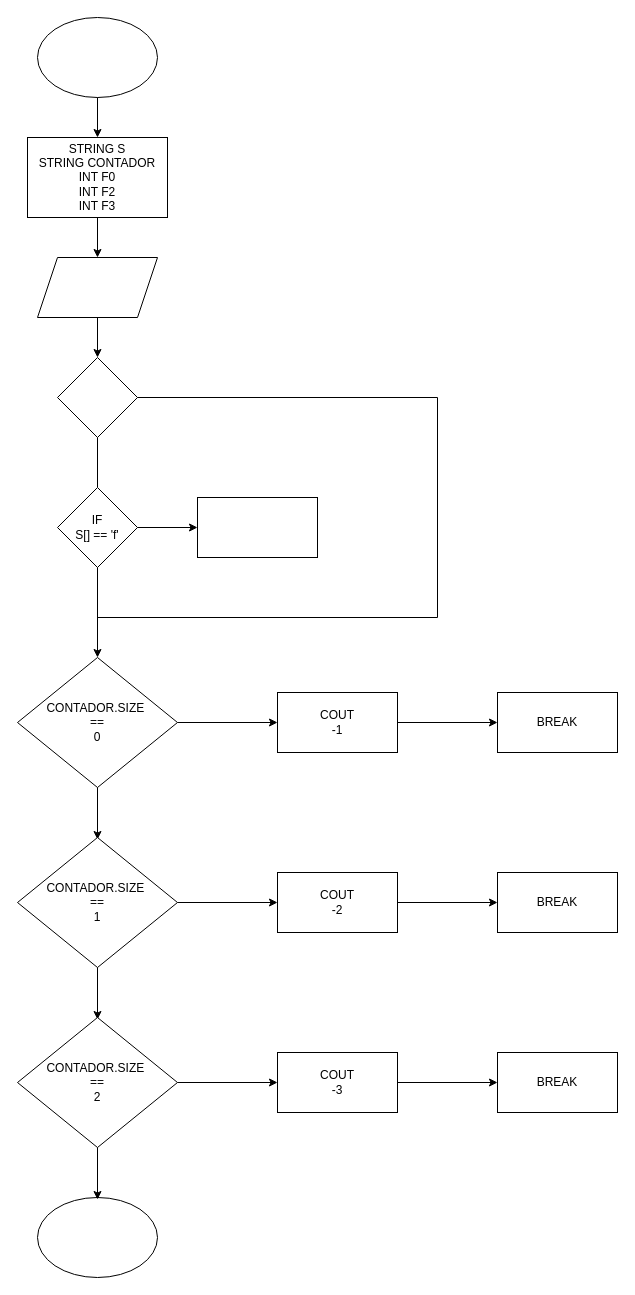
Some shapes in this 635 by 1295 pixel diagram are drawn without their labels. Each missing label, with the box of its shape:
CIN S: (36, 256, 158, 318)
CONTADOR += 'f': (196, 496, 318, 558)
END: (36, 1196, 158, 1278)
FOR 0 < S.SIZE: (56, 356, 138, 438)
START: (36, 16, 158, 98)
